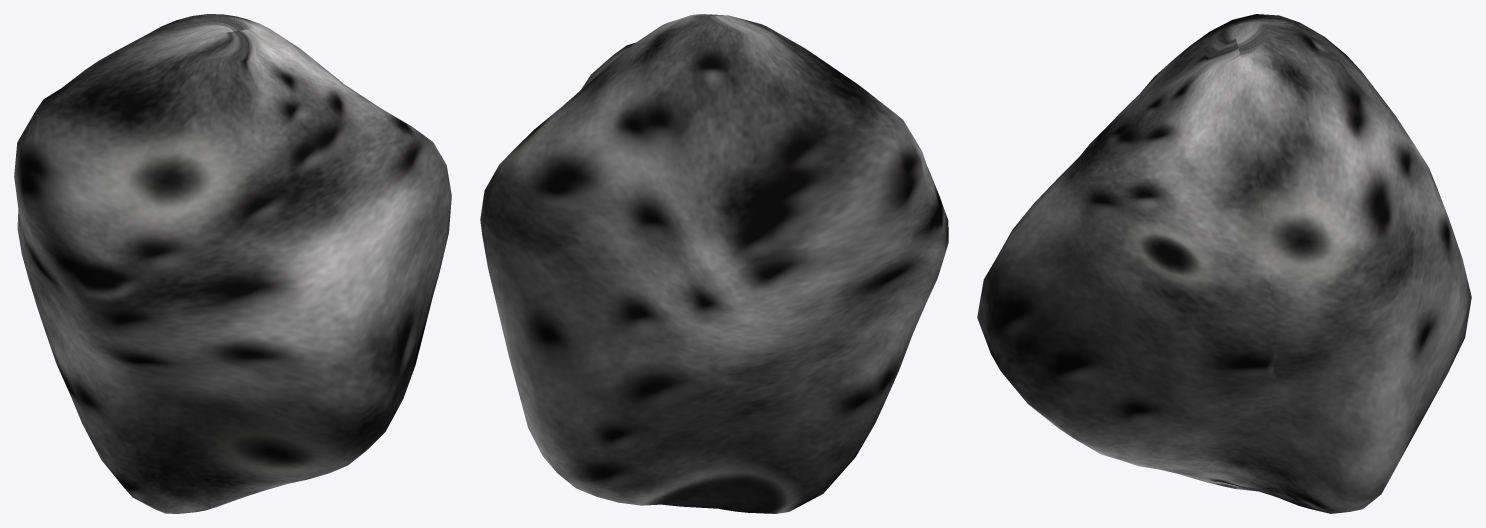
Rendered from Asteroid.fbx.
3 views of the same model, side by side, from view 1: azimuth 30°, elevation 25°; view 2: azimuth 150°, elevation 25°; view 3: azimuth 270°, elevation 25° (orthographic). The views are drawn at different scales.
Visible parts, largest first — view 1: Rock; view 2: Rock; view 3: Rock.
Part boxes in pixels (x1=…): Rock: x1=14, y1=14, x2=451, y2=513; Rock: x1=480, y1=14, x2=948, y2=513; Rock: x1=977, y1=14, x2=1471, y2=513.
Bounding box in the file's own units: 17.48 × 20.71 × 19.87.
1 material, 1 textured.
